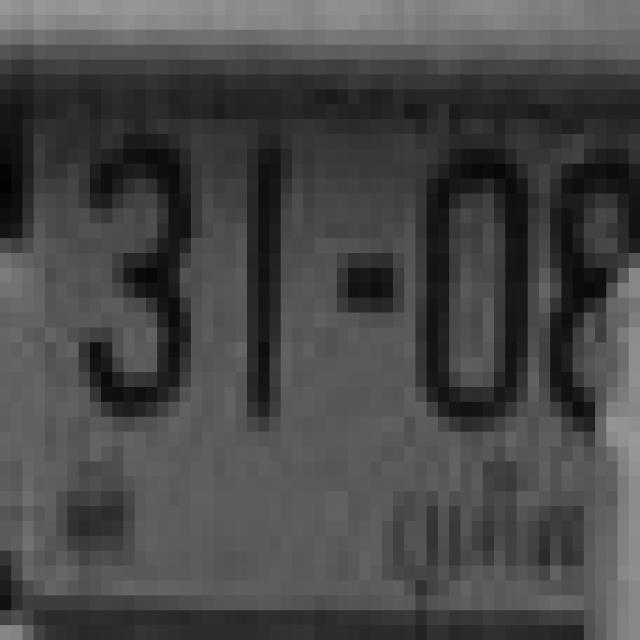1: (226, 108, 312, 451)
3: (60, 115, 228, 477)
Phuket: (357, 439, 607, 640)
